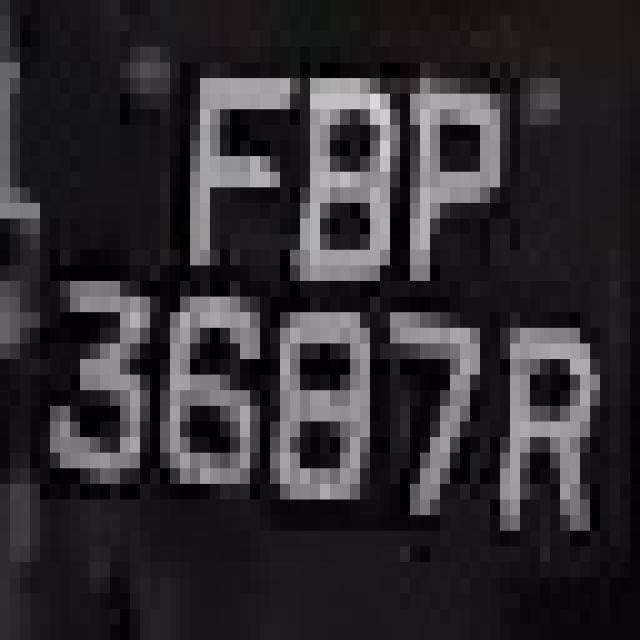3: (50, 219, 160, 515)
6: (140, 250, 250, 515)
7: (370, 234, 490, 562)
8: (240, 281, 370, 531)
B: (280, 31, 400, 359)
F: (160, 32, 290, 344)
P: (360, 31, 500, 328)
R: (480, 266, 610, 578)
